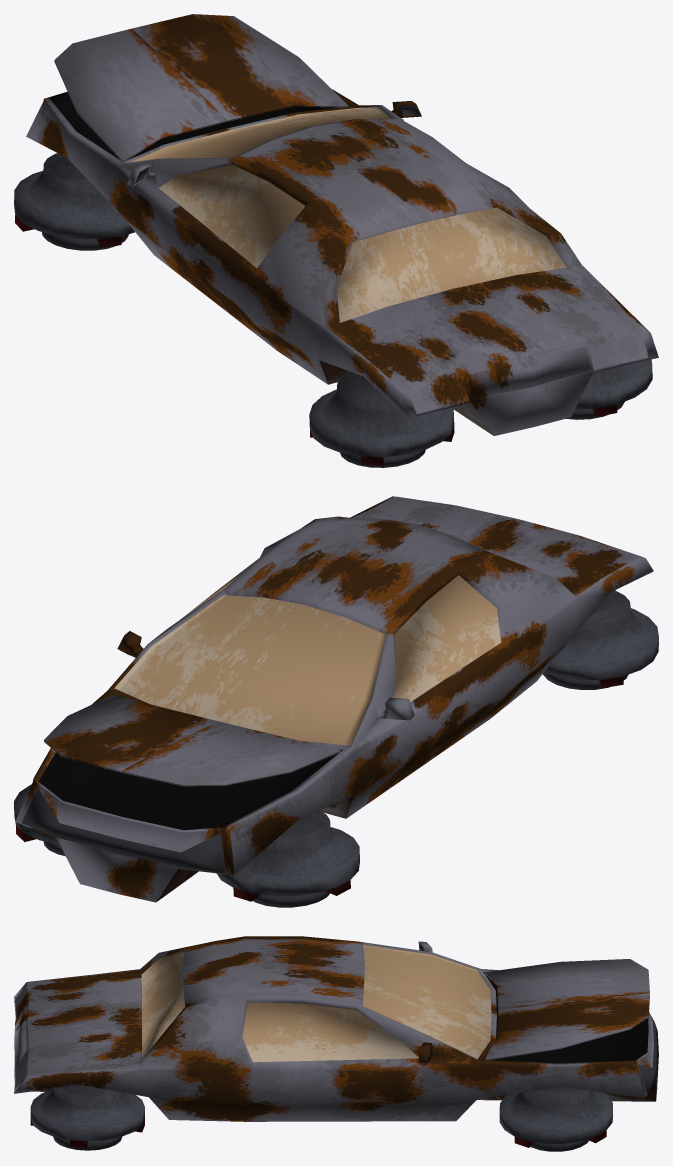
File: Voiture cassée.fbx
3 renders of one model, top to bottom at view 1: azimuth 30°, elevation 25°; view 2: azimuth 150°, elevation 25°; view 3: azimuth 270°, elevation 25°, orthographic. The views are drawn at different scales.
Parts seen in each view (by area): view 1: Cube.001; view 2: Cube.001; view 3: Cube.001.
Part boxes in pixels (x1,y1,x2,y2): Cube.001: (14, 14, 658, 467); Cube.001: (14, 496, 658, 907); Cube.001: (14, 936, 658, 1151).
Bounding box in the file's own units: 620 × 328 × 1347.
